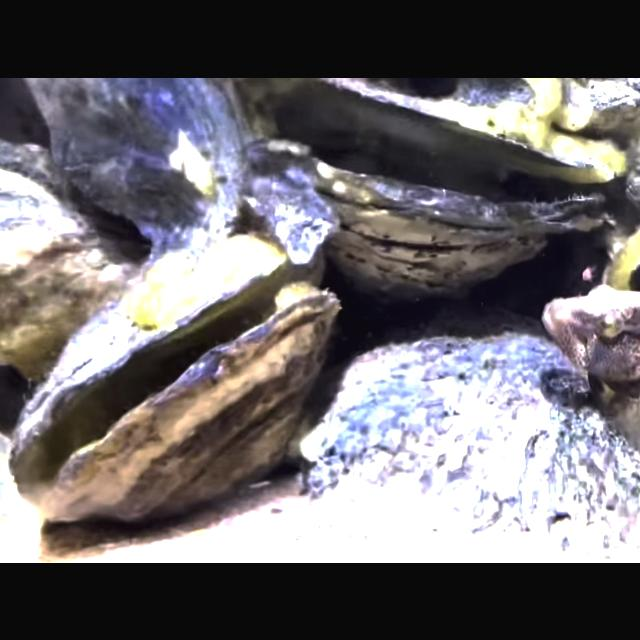Oyster-Closed: (23, 78, 245, 242), (0, 167, 140, 383)
Oyster-Open: (8, 232, 342, 526), (236, 77, 614, 295)
